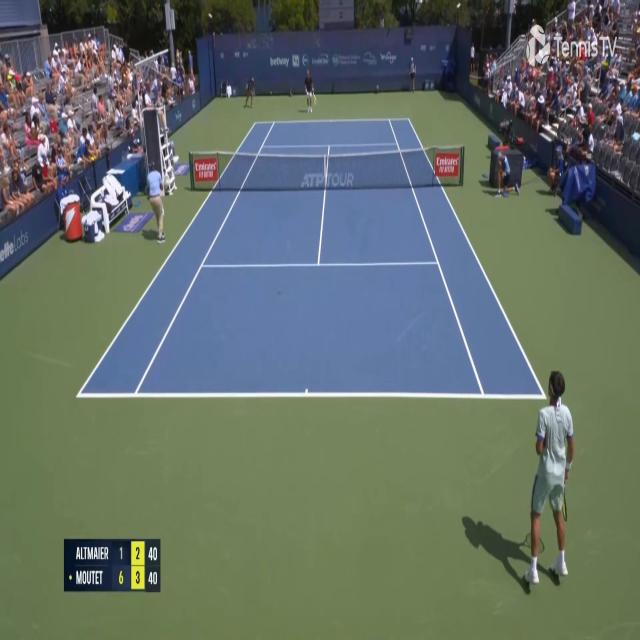tennis-player: (516, 365, 580, 587), (302, 67, 317, 114)
